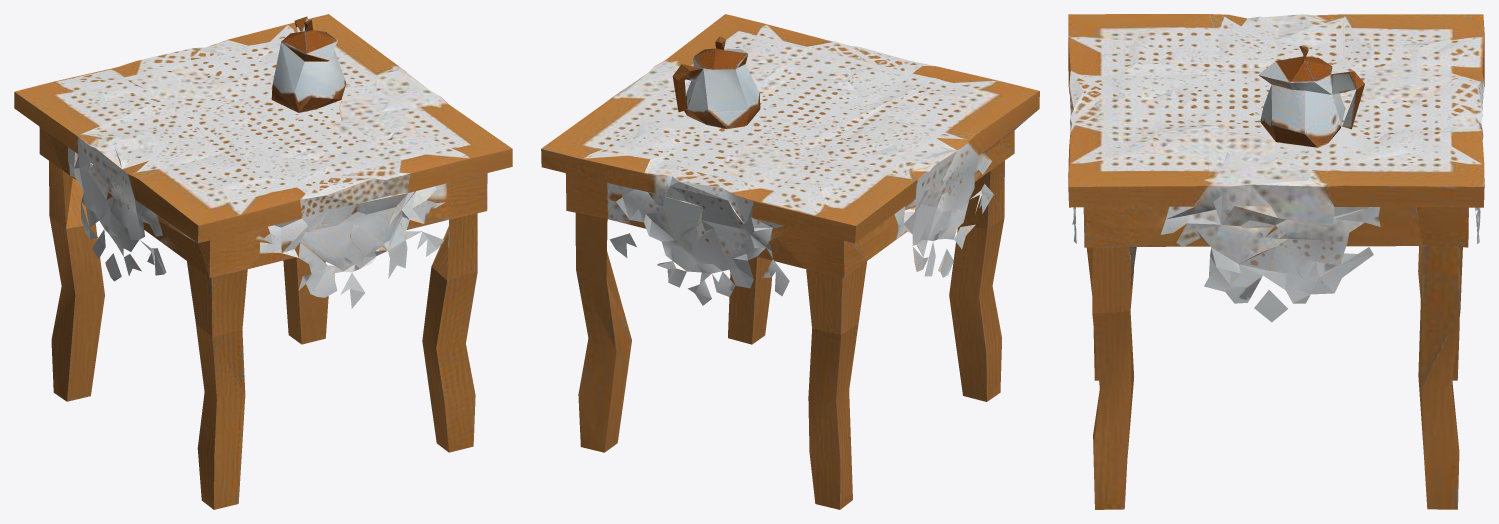
The model's file is diningTable.glb.
3 renders of one model, left to right at view 1: azimuth 30°, elevation 25°; view 2: azimuth 150°, elevation 25°; view 3: azimuth 270°, elevation 25°, orthographic. The views are drawn at different scales.
Size of the model in its own units: 1.66 by 1.9 by 1.68.
Materials: 1 (1 with a texture image).
